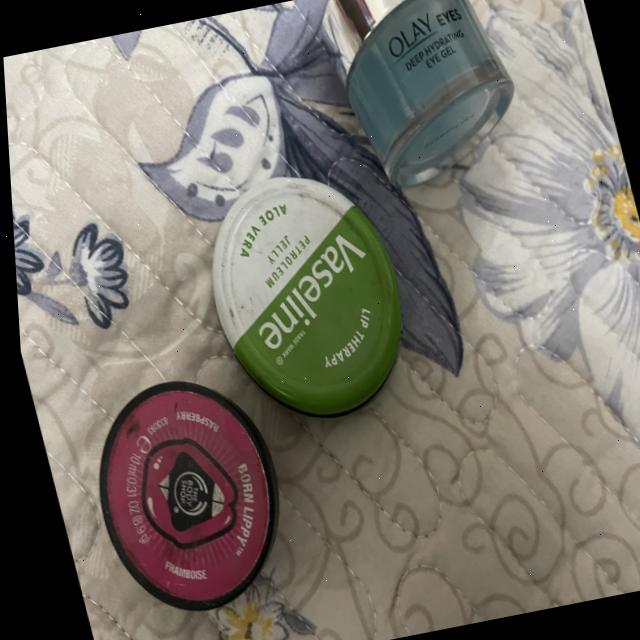gel: (288, 0, 536, 207)
lip balm: (172, 132, 438, 458), (52, 353, 298, 640)
